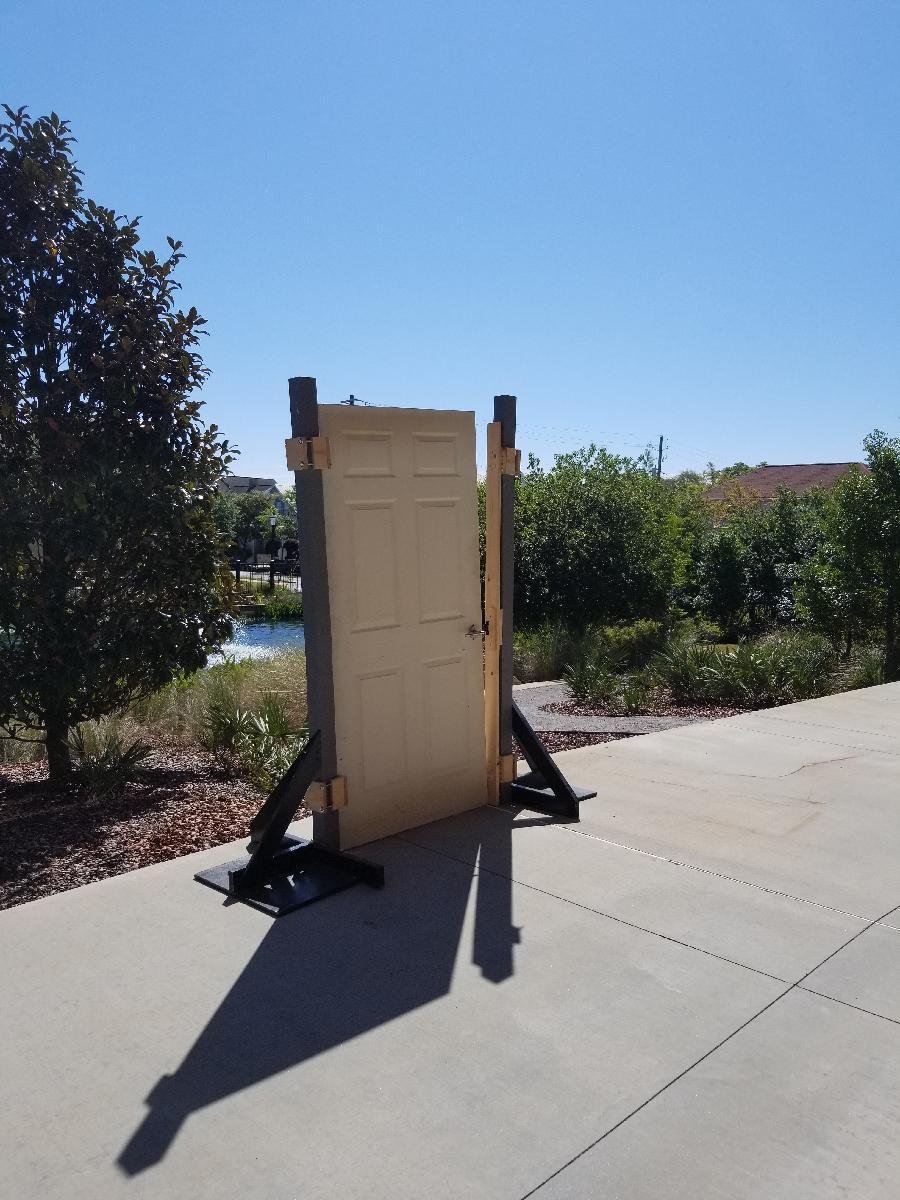door: (310, 400, 495, 838)
handle: (460, 621, 491, 643)
